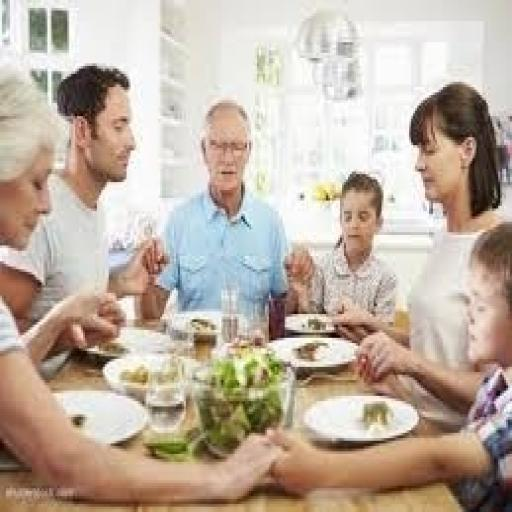eating: (0, 50, 508, 504)
